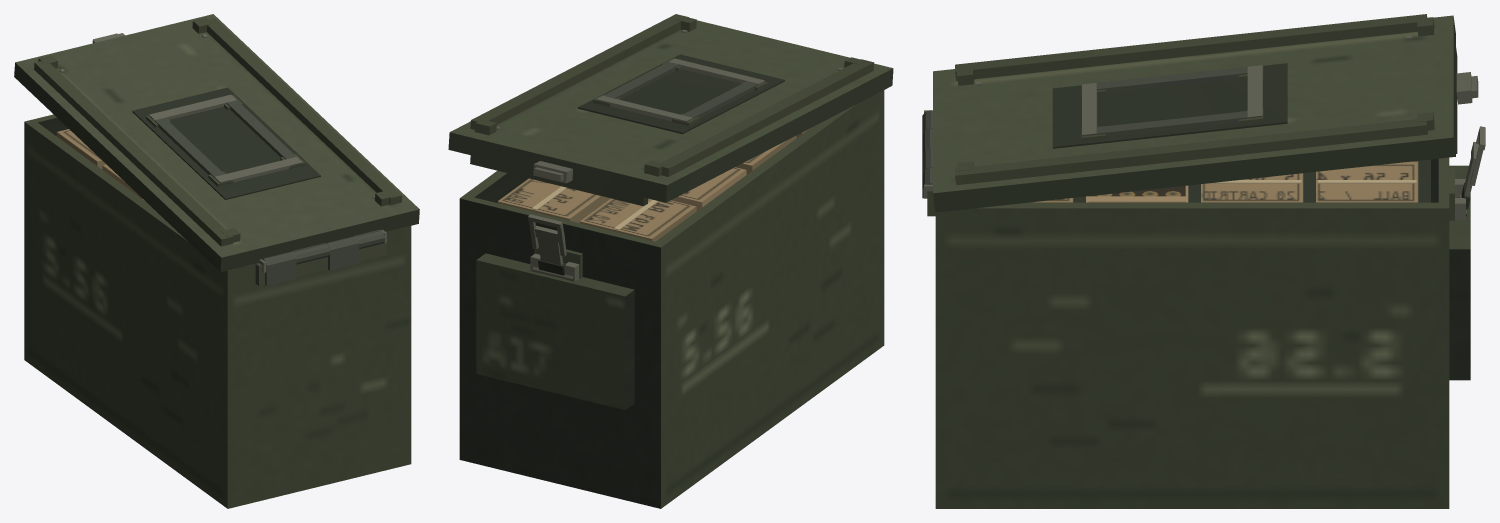
Rendered from military_ammo_can_open.obj.
The picture shows the model from 3 angles, left to right: view 1: azimuth 30°, elevation 25°; view 2: azimuth 150°, elevation 25°; view 3: azimuth 270°, elevation 25°; orthographic projection. The views are drawn at different scales.
Parts seen in each view (by area): view 1: box, lid, Low_stacking_runner, Shallow_handle_bed, Fixed_hinge_leaf, Handle_left_leaf, Handle_right_leaf, Hinge_mounting_plate_-_fixed, Lid_knuckle, Handle_crossbar_at_rear, Handle_crossbar_at_front, Stacking_corner_stop (+2 smaller); view 2: box, lid, Low_stacking_runner, Shallow_handle_bed, Carton_2_01___sealed, Carton_2_02___sealed, Carton_2_03___sealed, Stacking_corner_stop, Handle_left_leaf, Handle_right_leaf, Handle_crossbar_at_front, Handle_crossbar_at_rear (+2 smaller); view 3: box, lid, Low_stacking_runner, Shallow_handle_bed, Carton_2_02___sealed, Carton_2_04___sealed, Handle_right_leaf, Handle_left_leaf, Ammunition___recessed_tray, Stacking_corner_stop, Handle_crossbar_at_front, Handle_crossbar_at_rear (+1 smaller).
Boxes of the visible parts, bbox=[...] form: box: bbox=[24, 114, 411, 508]; lid: bbox=[14, 14, 419, 272]; Low_stacking_runner: bbox=[34, 18, 402, 246]; Shallow_handle_bed: bbox=[132, 87, 320, 199]; Fixed_hinge_leaf: bbox=[265, 246, 359, 285]; Handle_left_leaf: bbox=[149, 115, 230, 183]; Handle_right_leaf: bbox=[226, 100, 302, 165]; Hinge_mounting_plate_-_fixed: bbox=[255, 243, 386, 286]; Lid_knuckle: bbox=[293, 230, 384, 264]; Handle_crossbar_at_rear: bbox=[214, 157, 302, 183]; Handle_crossbar_at_front: bbox=[149, 94, 236, 120]; Stacking_corner_stop: bbox=[38, 17, 394, 242]; box: bbox=[459, 90, 884, 508]; lid: bbox=[448, 20, 893, 206]; Low_stacking_runner: bbox=[470, 14, 874, 176]; Shallow_handle_bed: bbox=[578, 54, 784, 134]; Carton_2_01___sealed: bbox=[579, 198, 696, 241]; Carton_2_02___sealed: bbox=[497, 178, 610, 222]; Carton_2_03___sealed: bbox=[671, 167, 746, 210]; Stacking_corner_stop: bbox=[475, 16, 865, 176]; Handle_left_leaf: bbox=[679, 81, 764, 122]; Handle_right_leaf: bbox=[597, 62, 679, 101]; Handle_crossbar_at_front: bbox=[596, 96, 692, 121]; Handle_crossbar_at_rear: bbox=[668, 58, 764, 84]; box: bbox=[935, 157, 1470, 508]; lid: bbox=[933, 15, 1457, 212]; Low_stacking_runner: bbox=[955, 14, 1427, 185]; Shallow_handle_bed: bbox=[1052, 63, 1287, 148]; Carton_2_02___sealed: bbox=[1316, 161, 1418, 202]; Carton_2_04___sealed: bbox=[1201, 173, 1303, 202]; Handle_right_leaf: bbox=[1082, 111, 1262, 136]; Handle_left_leaf: bbox=[1096, 66, 1247, 92]; Ammunition___recessed_tray: bbox=[1073, 159, 1430, 202]; Stacking_corner_stop: bbox=[957, 17, 1434, 171]; Handle_crossbar_at_front: bbox=[1247, 65, 1262, 117]; Handle_crossbar_at_rear: bbox=[1082, 83, 1097, 135].
Size of the model in its own units: 0.3713 by 0.5443 by 0.724.
1 material, 1 textured.
